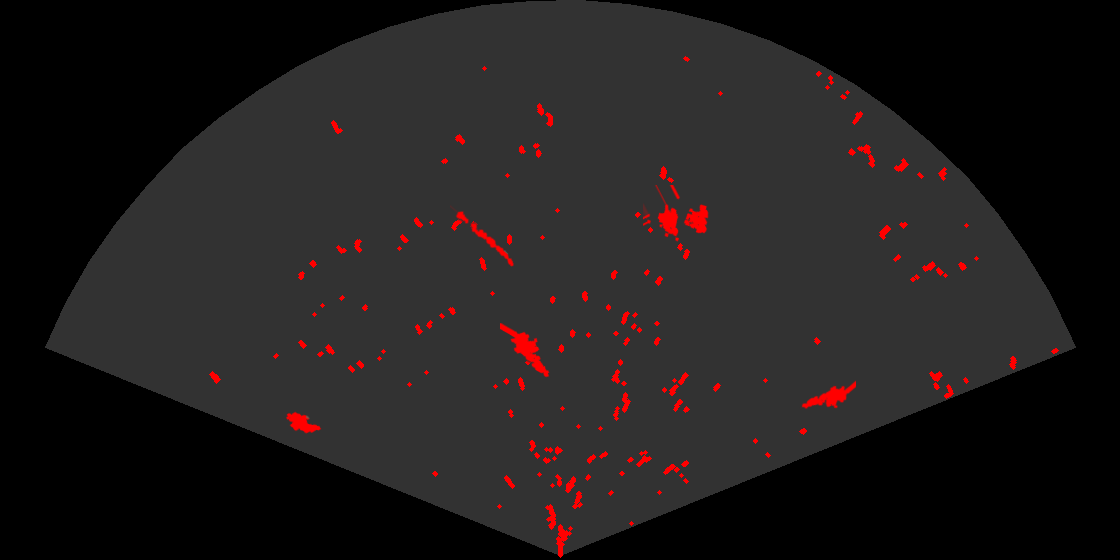AUV: (284, 410, 323, 435)
cage: (643, 185, 710, 243)
chain: (450, 204, 515, 268)
frogman: (500, 323, 551, 379), (799, 379, 856, 411)
